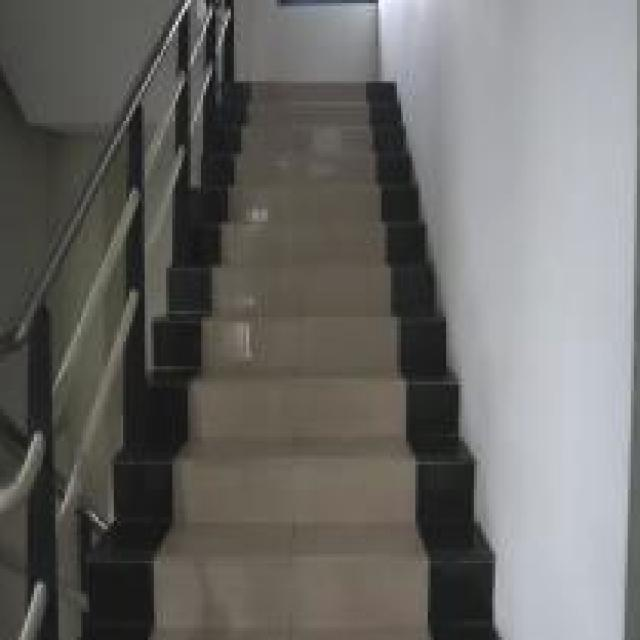upstair: (231, 68, 444, 640)
